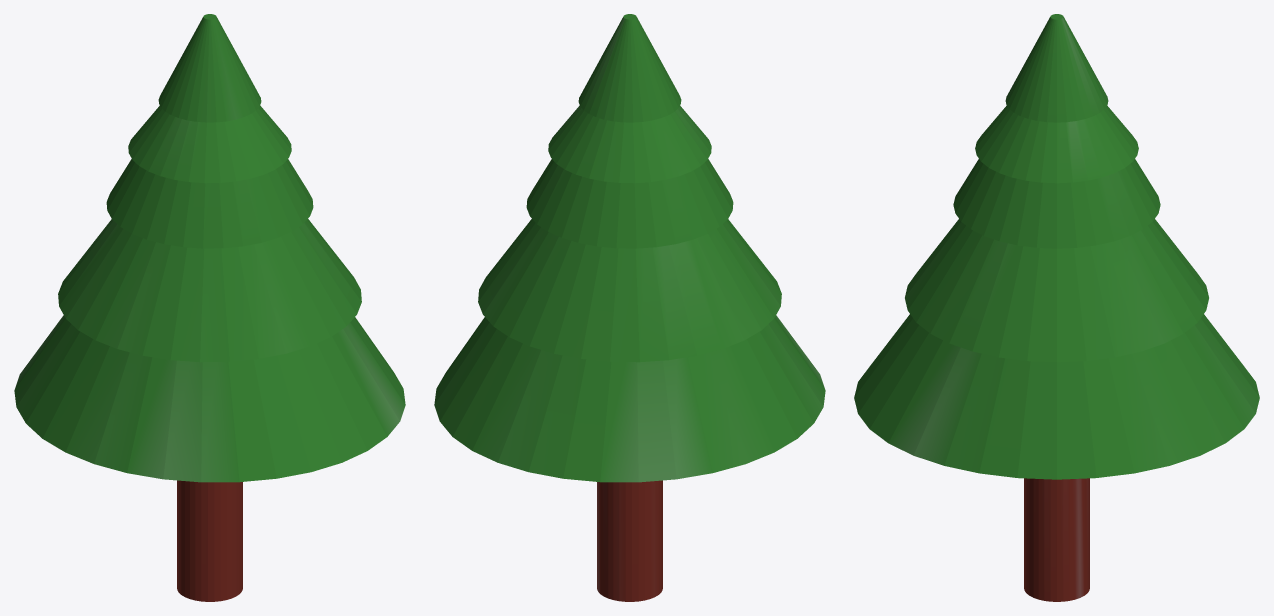
File: Pinheiro.fbx
The picture shows the model from 3 angles, left to right: view 1: azimuth 30°, elevation 25°; view 2: azimuth 150°, elevation 25°; view 3: azimuth 270°, elevation 25°; orthographic projection.
Visible parts, largest first — view 1: Cilindro; view 2: Cilindro; view 3: Cilindro.
Boxes of the visible parts, x1,y1,x2,y2 form: Cilindro: (14, 14, 405, 601); Cilindro: (434, 14, 825, 601); Cilindro: (854, 14, 1259, 601).
Bounding box in the file's own units: 1170 × 1907 × 1228.
